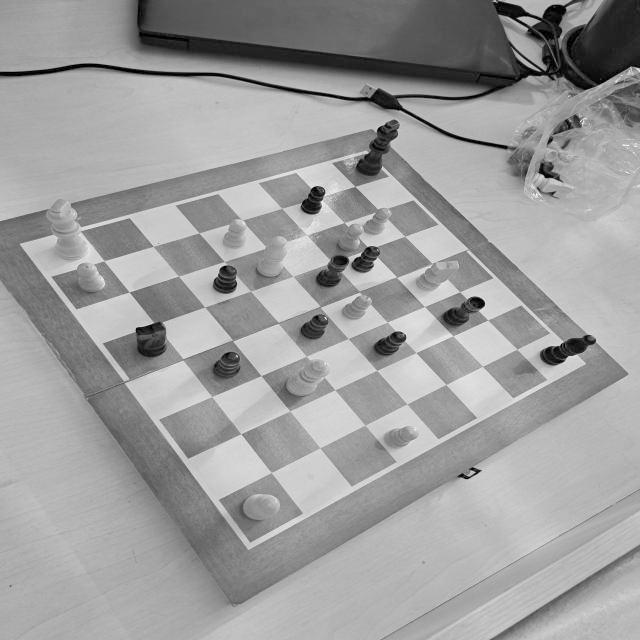chess-table-corners: (230, 528, 268, 554), (12, 235, 47, 256), (564, 353, 592, 372), (350, 146, 380, 163)
